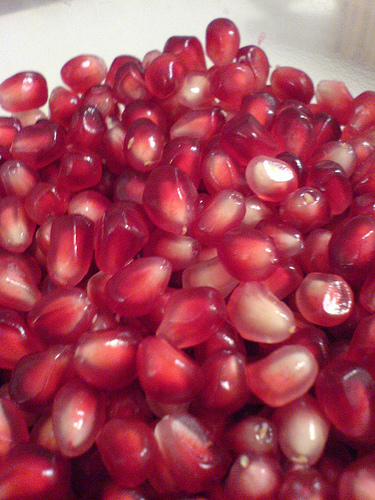pomogranate: (0, 17, 373, 498)
